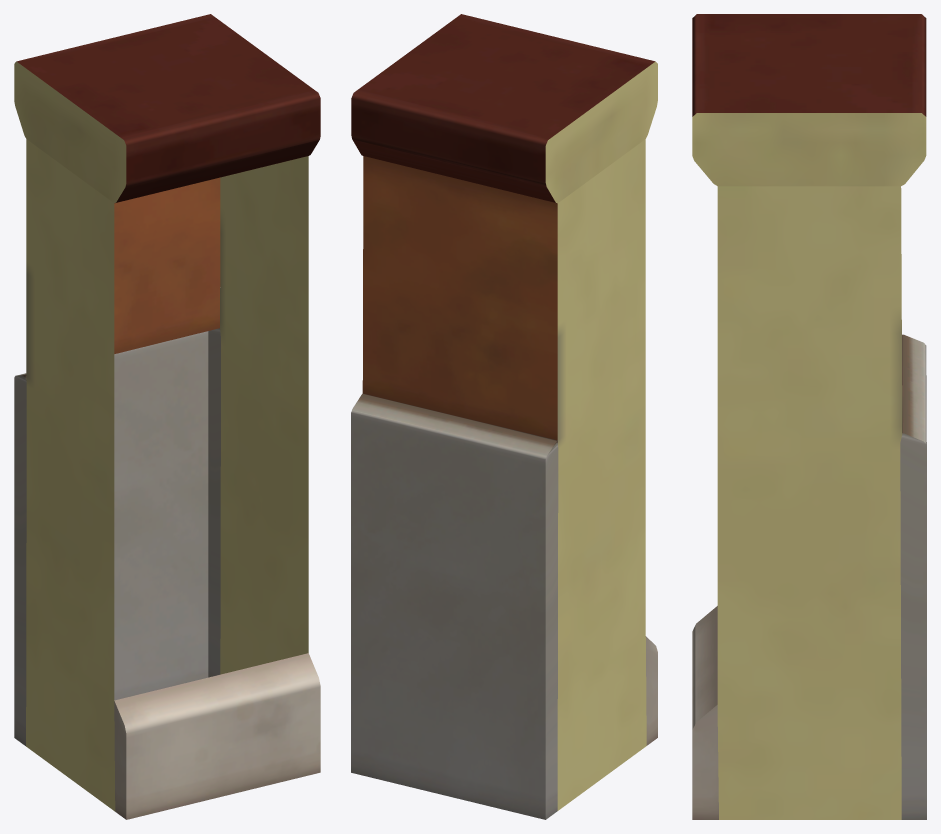
Rendered from Wall_Straight_Short.fbx.
3 renders of one model, left to right at view 1: azimuth 30°, elevation 25°; view 2: azimuth 150°, elevation 25°; view 3: azimuth 270°, elevation 25°, orthographic. The views are drawn at different scales.
Parts seen in each view (by area): view 1: m_city_wall_straight_01_short, m_city_wall_straight_01_short_inside; view 2: m_city_wall_straight_01_short_inside, m_city_wall_straight_01_short; view 3: m_city_wall_straight_01_short, m_city_wall_straight_01_short_inside.
Boxes of the visible parts, bbox=[...] form: m_city_wall_straight_01_short: bbox=[14, 14, 320, 819]; m_city_wall_straight_01_short_inside: bbox=[17, 177, 220, 700]; m_city_wall_straight_01_short_inside: bbox=[351, 156, 557, 819]; m_city_wall_straight_01_short: bbox=[351, 14, 657, 819]; m_city_wall_straight_01_short: bbox=[692, 14, 926, 819]; m_city_wall_straight_01_short_inside: bbox=[902, 334, 926, 444].
Bounding box in the file's own units: 60.4 × 200 × 61.19.
